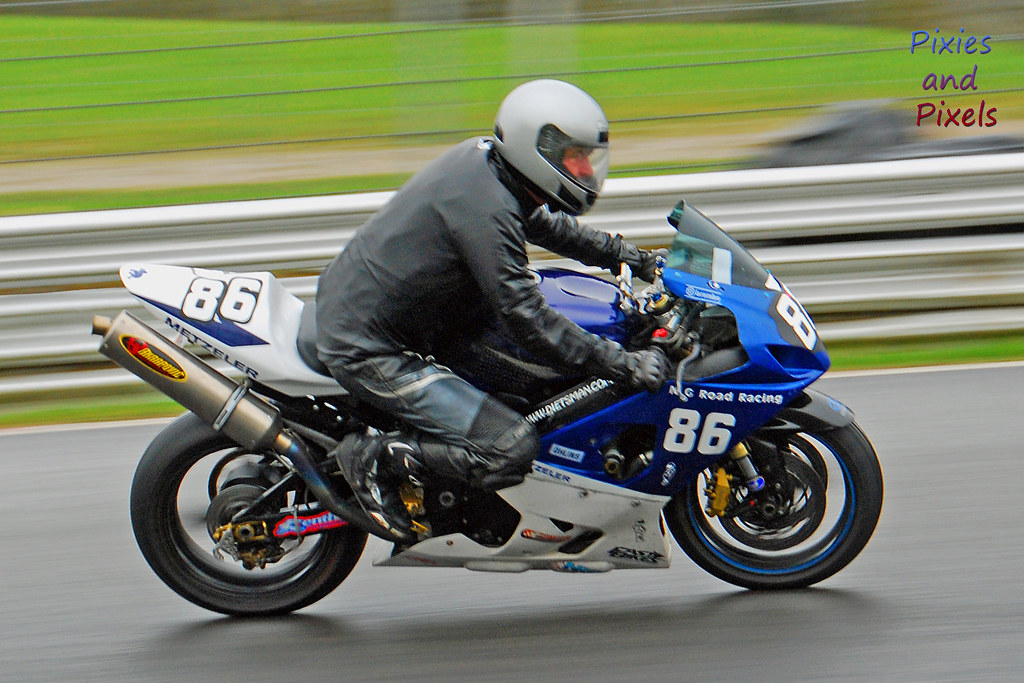helmet: (488, 75, 629, 214)
